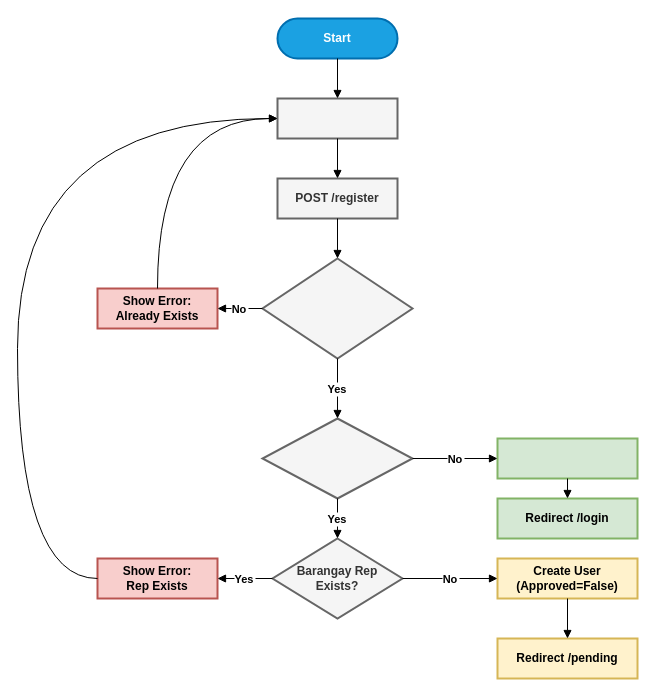
Image size: 656x696. Some labels were removed from this diagram. The shapes that lost their labels are listed below. From the top down, each one's centre as x and y in pixels, then its label:
(337,118): GET /register
(337,308): Username & Email Available?
(337,458): Is Contributor?
(567,458): Create User (Approved=True)
